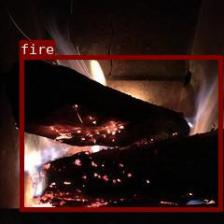fire: (19, 54, 222, 210)
